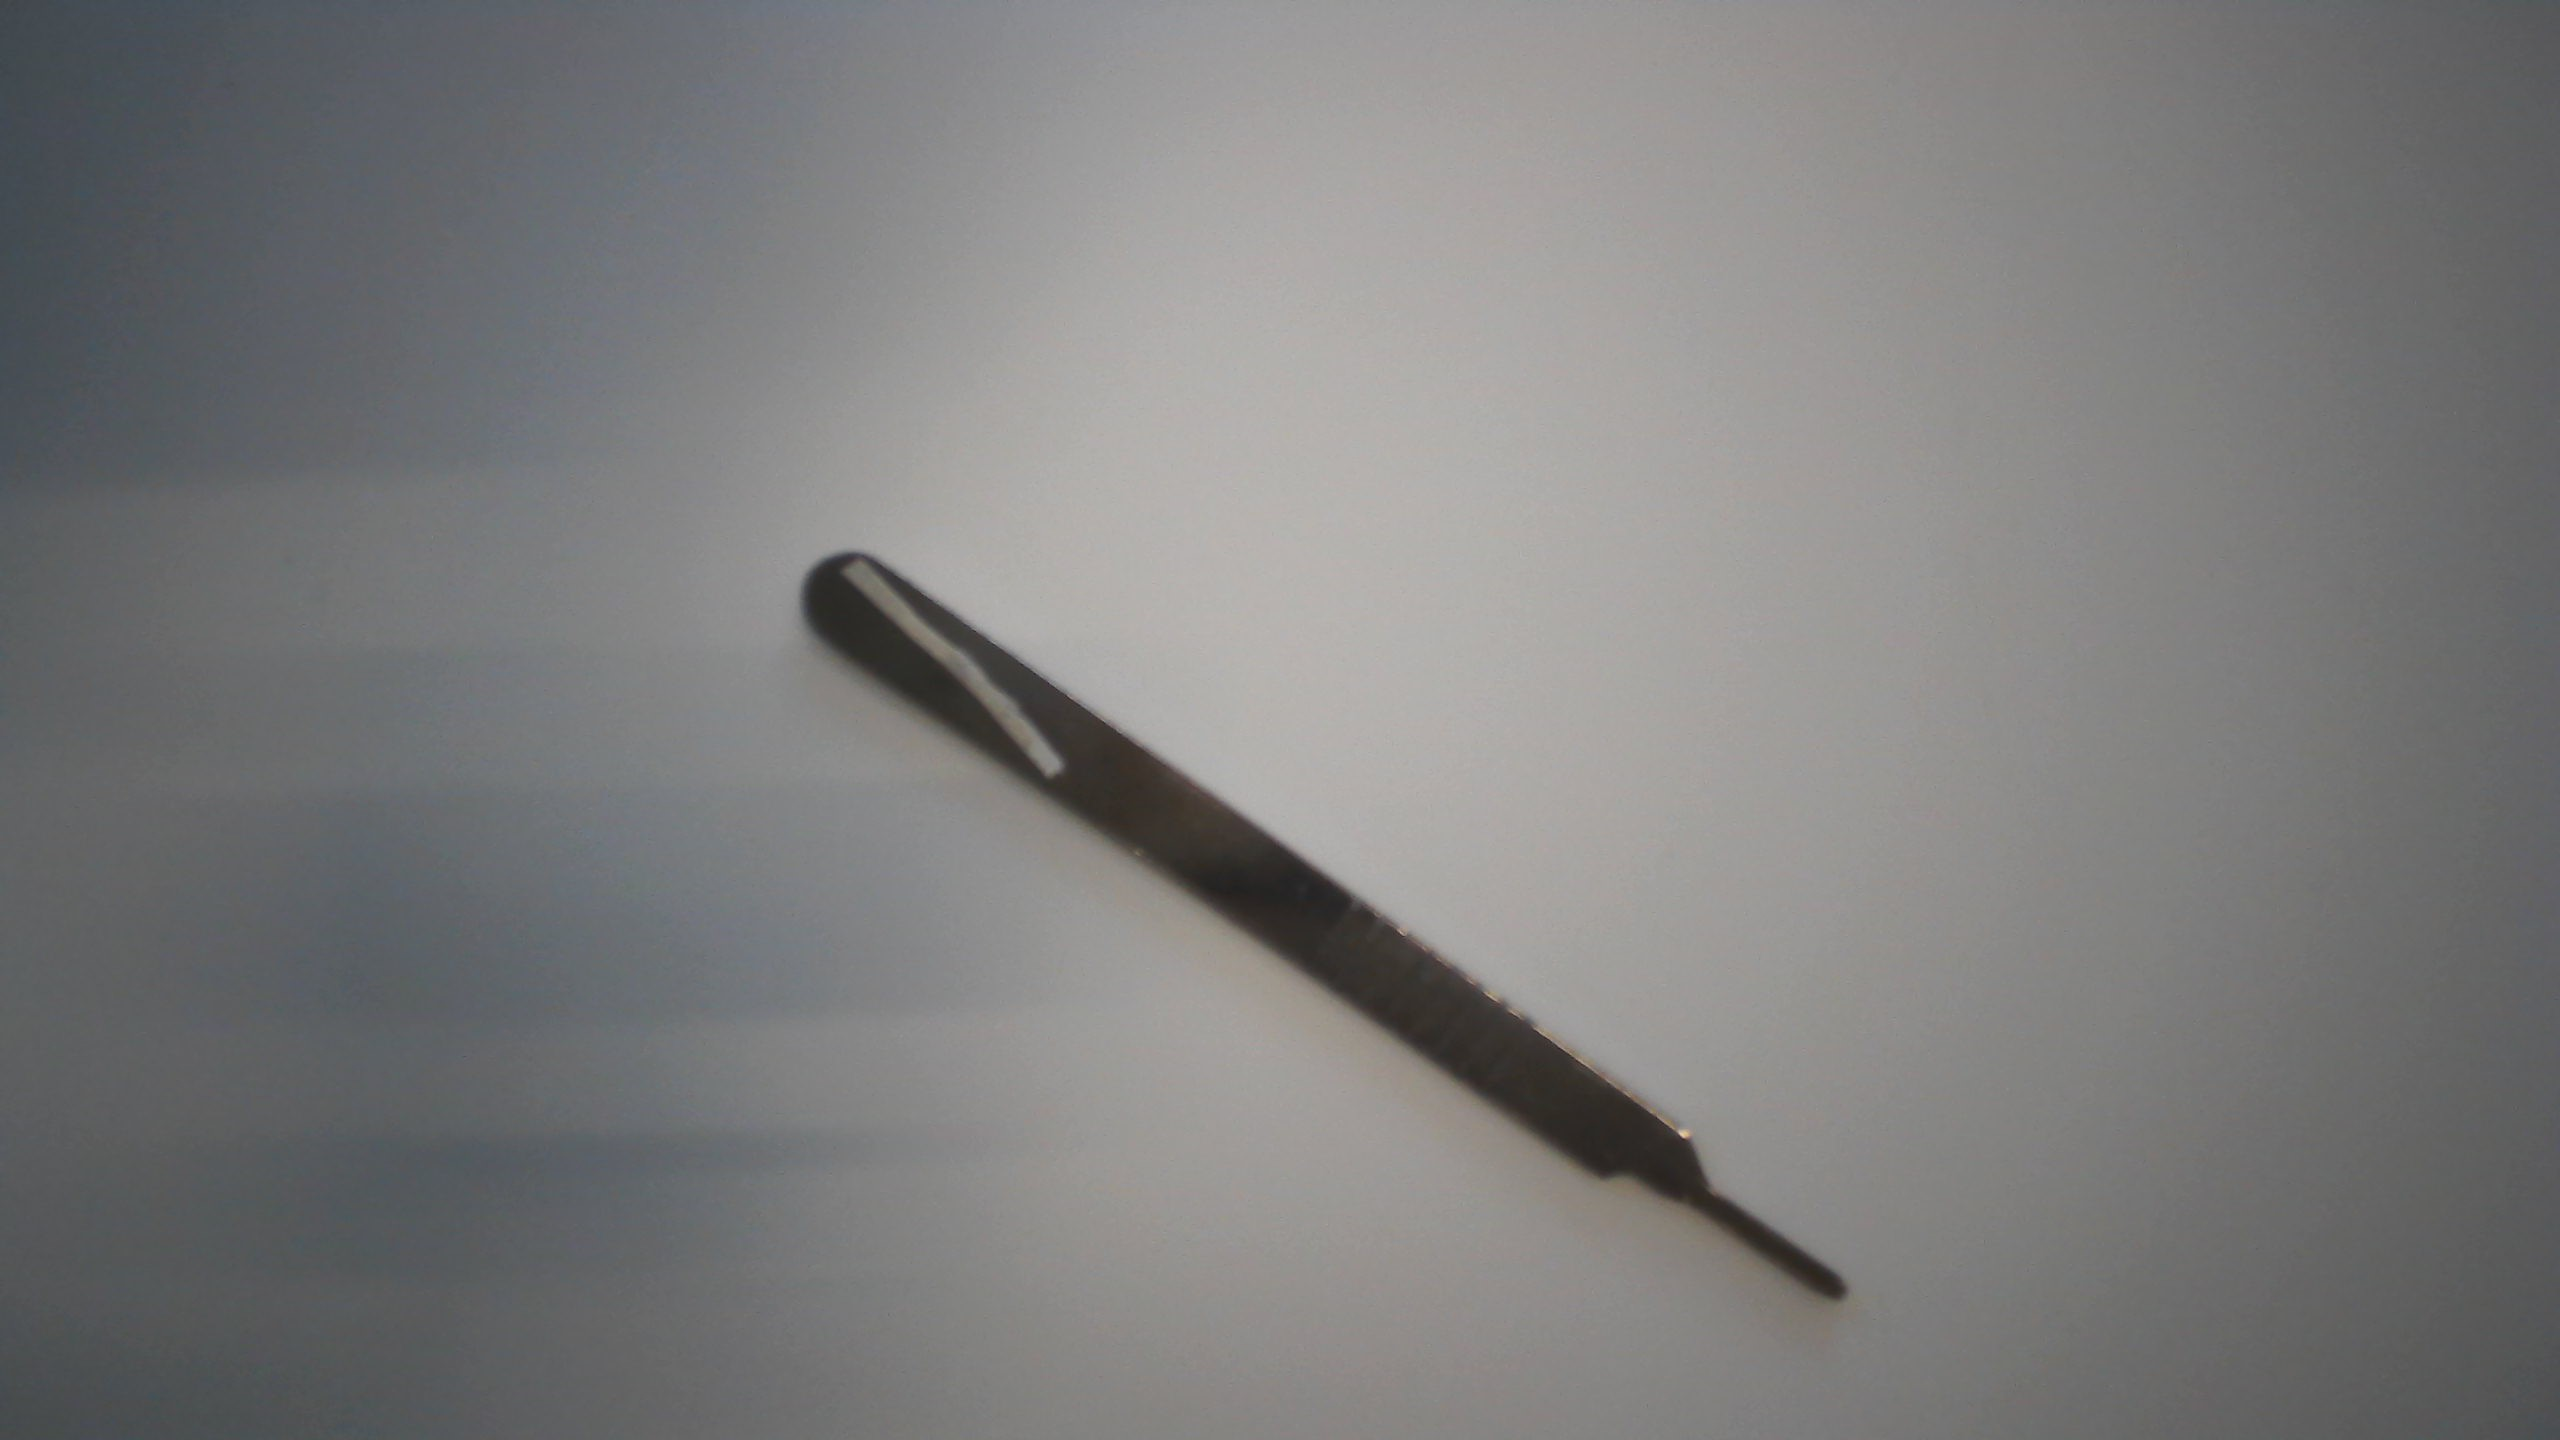Scratches: (840, 554, 1069, 784)
